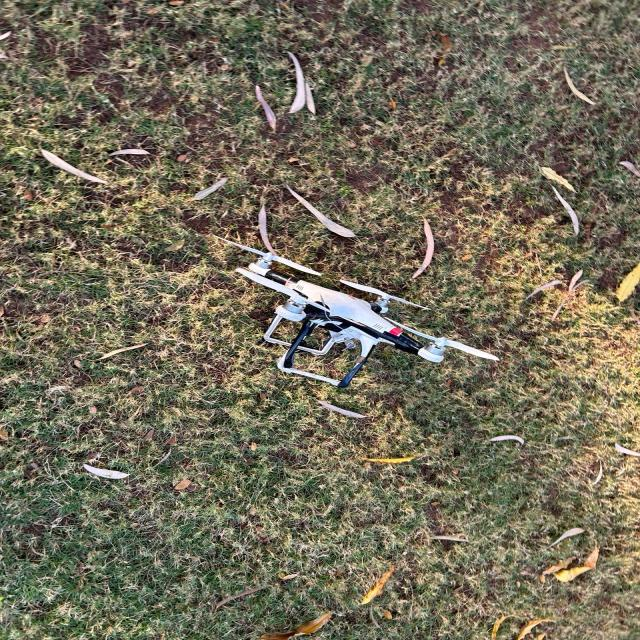drone: (172, 204, 554, 430)
